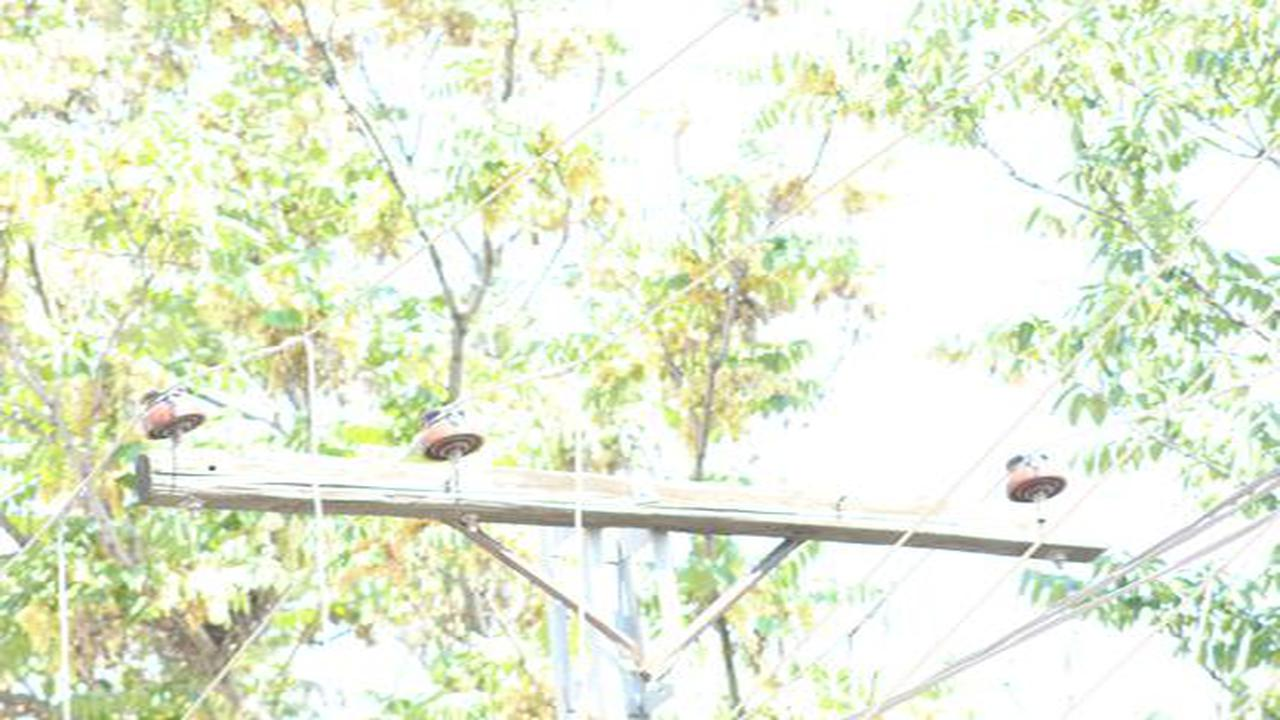insulator_pin: (139, 381, 210, 442), (1000, 448, 1069, 509), (414, 403, 485, 459)
